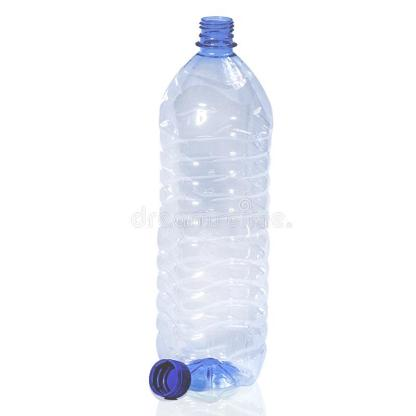Plastic Bottle: (147, 10, 274, 404)
